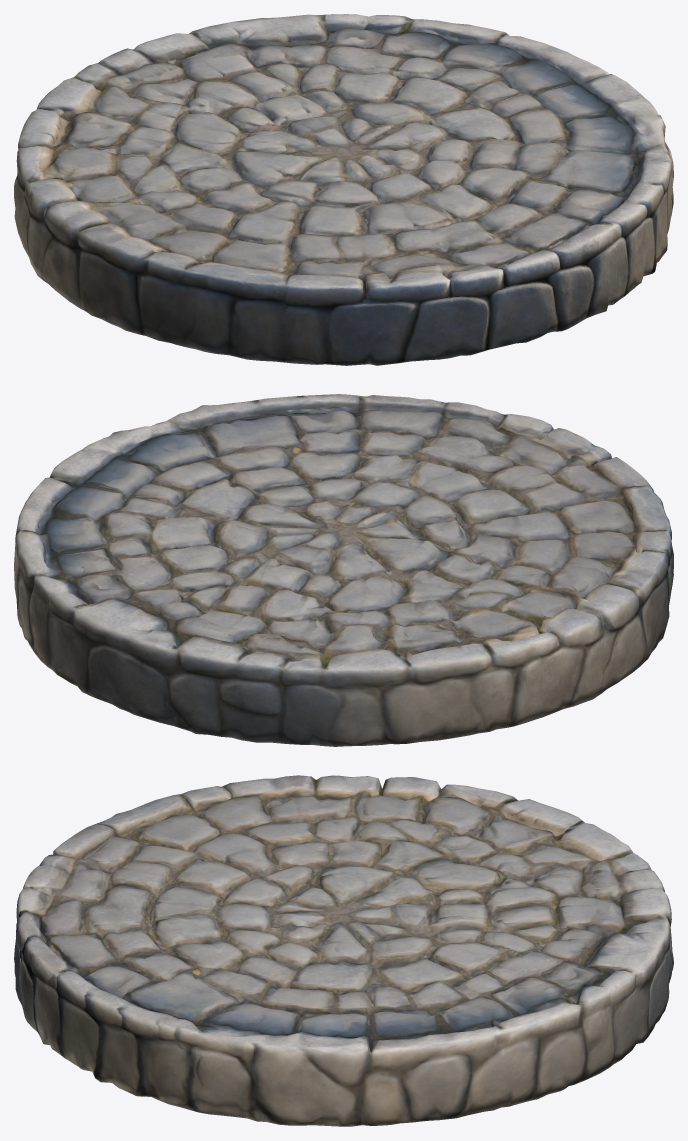
Rendered from Circle_platform_made__0425154950_texture.fbx.
3 renders of one model, top to bottom at view 1: azimuth 30°, elevation 25°; view 2: azimuth 150°, elevation 25°; view 3: azimuth 270°, elevation 25°, orthographic.
Visible parts, largest first — view 1: Mesh1; view 2: Mesh1; view 3: Mesh1.
Boxes of the visible parts, box(x1,y1,x2,y2) form: Mesh1: box(14, 14, 673, 365); Mesh1: box(14, 394, 673, 746); Mesh1: box(14, 775, 673, 1126).
Bounding box in the file's own units: 199 × 27.32 × 200.
Materials: 1 (1 with a texture image).
